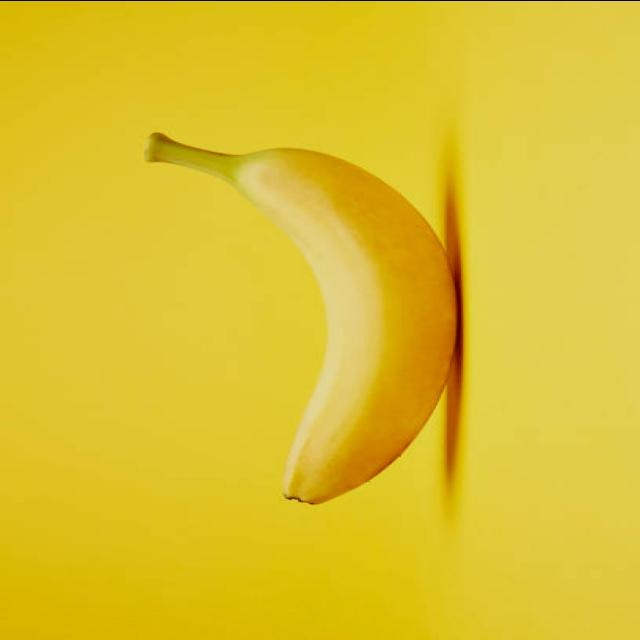agrume: (147, 131, 464, 505)
